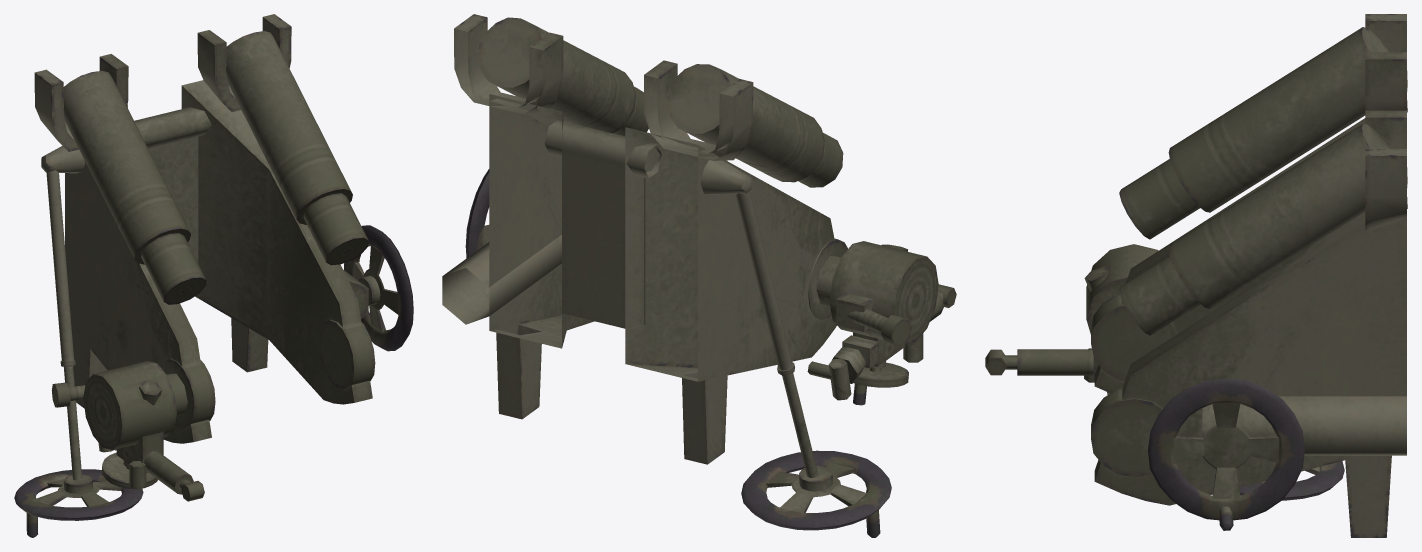
The model's file is Turret_01.glb.
3 renders of one model, left to right at view 1: azimuth 30°, elevation 25°; view 2: azimuth 150°, elevation 25°; view 3: azimuth 270°, elevation 25°, orthographic. The views are drawn at different scales.
Parts seen in each view (by area): view 1: set_0_group_0; view 2: set_0_group_0; view 3: set_0_group_0.
Boxes of the visible parts, x1,y1,x2,y2 form: set_0_group_0: (14,14,413,537); set_0_group_0: (442,14,956,537); set_0_group_0: (985,14,1407,537).
Bounding box in the file's own units: 0.9461 × 1.01 × 0.7738.
1 material, 1 textured.
